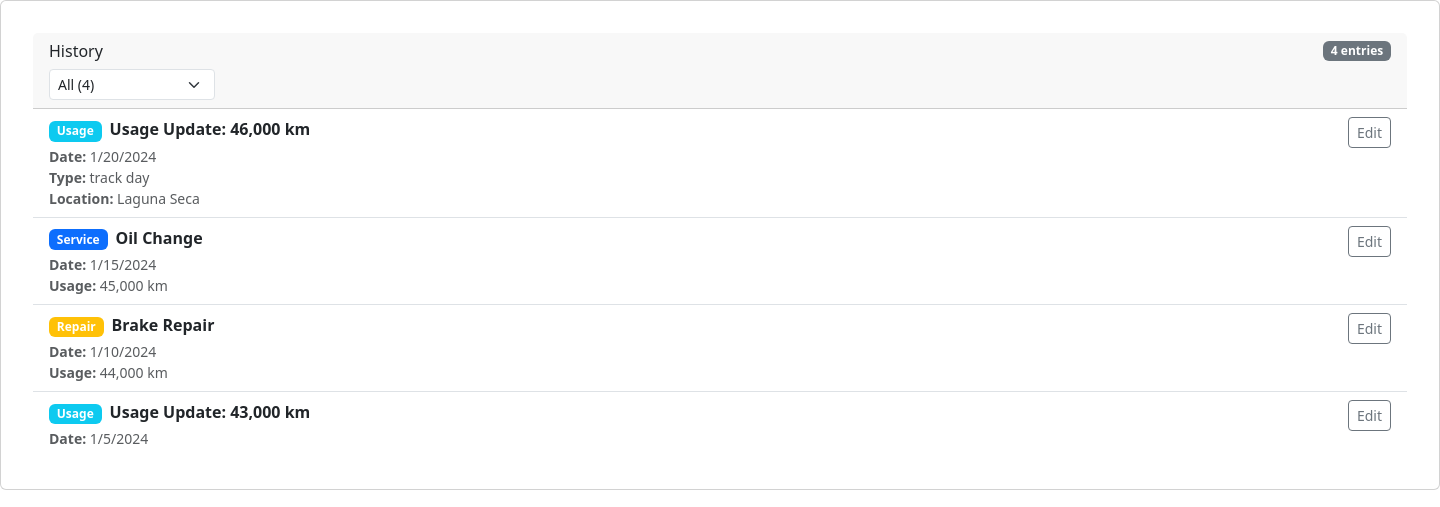
Test: ServiceHistory › should filter by usage entries only
Check: the text "Usage Update: 46,000 km" is shown, box [110, 118, 310, 140]
Select "Usage Updates (2)" in the dropdown at (132, 85), box [49, 69, 215, 100]
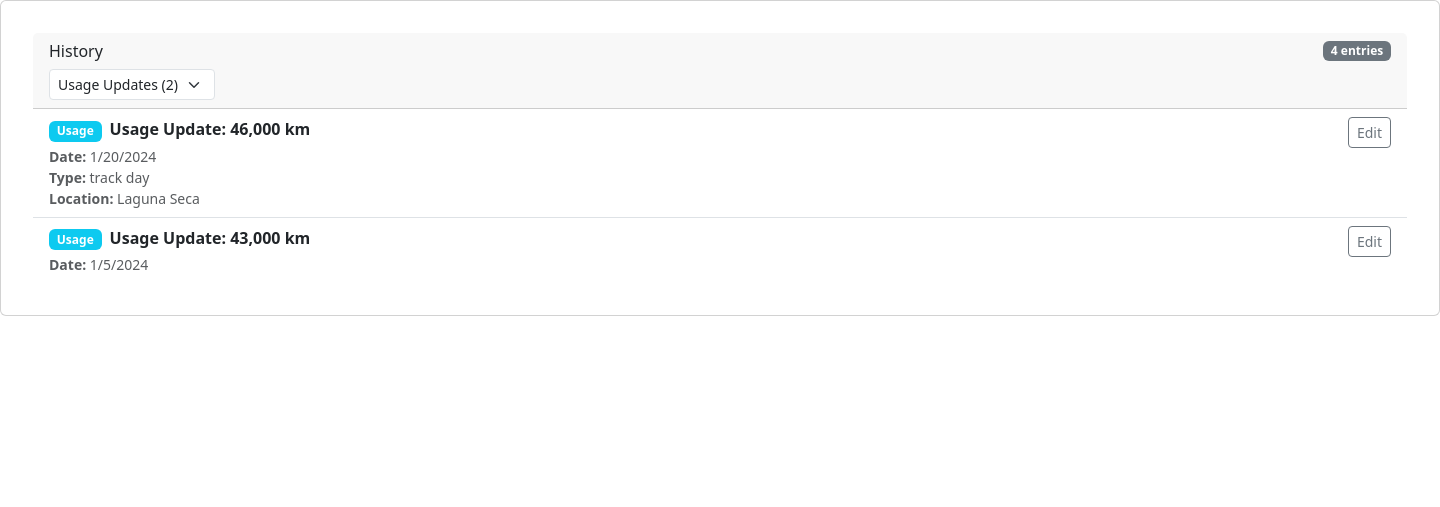
Check: the text "Usage Update: 46,000 km" is shown, box [110, 118, 310, 140]
Check: the text "Oil Change" is gone
Check: the text "Brake Repair" is gone
